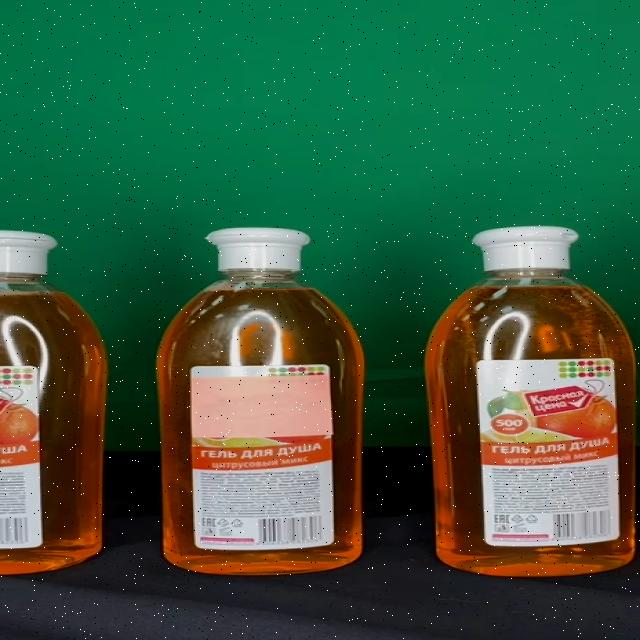Bottle: (424, 227, 640, 577), (155, 228, 366, 575)
Cap: (472, 227, 578, 272), (206, 228, 311, 271)
